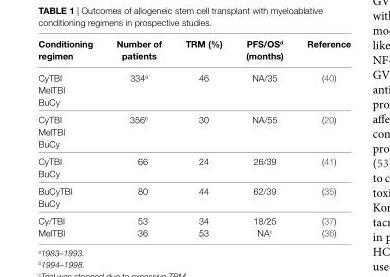table: (37, 37, 350, 237)
table column: (103, 37, 172, 237), (37, 37, 103, 237), (172, 37, 233, 237), (233, 37, 294, 237), (294, 37, 350, 237)
table column header: (37, 37, 350, 66)
table row: (37, 37, 350, 66), (37, 66, 350, 83), (37, 95, 350, 110), (37, 151, 350, 166), (37, 166, 350, 181), (37, 181, 350, 196), (37, 196, 350, 211), (37, 211, 350, 226), (37, 110, 350, 124), (37, 137, 350, 151), (37, 124, 350, 137), (37, 83, 350, 95), (37, 226, 350, 237)
table spanning cell: (103, 66, 172, 110), (103, 110, 172, 151), (172, 66, 233, 110), (233, 66, 294, 110), (172, 110, 233, 151), (233, 110, 294, 151), (294, 66, 350, 110), (294, 110, 350, 151), (103, 151, 172, 181), (103, 181, 172, 211), (172, 151, 233, 181), (233, 151, 294, 181), (172, 181, 233, 211), (233, 181, 294, 211), (294, 151, 350, 181), (294, 181, 350, 211)
